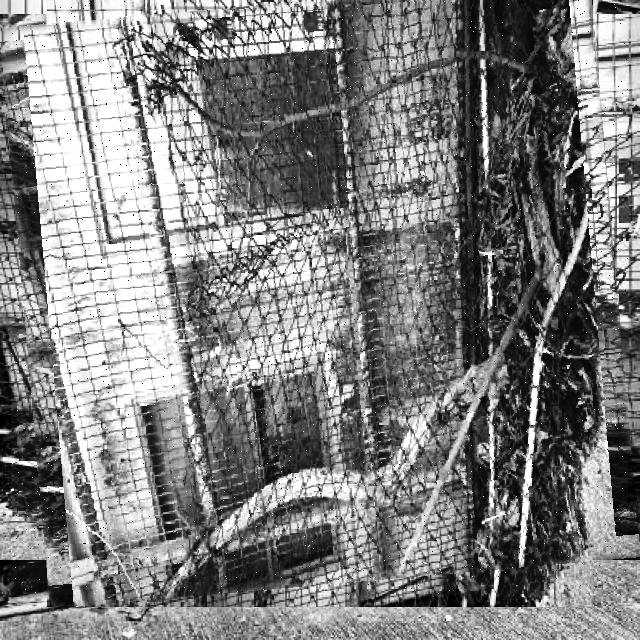anomaly-fence: (11, 0, 628, 595)
